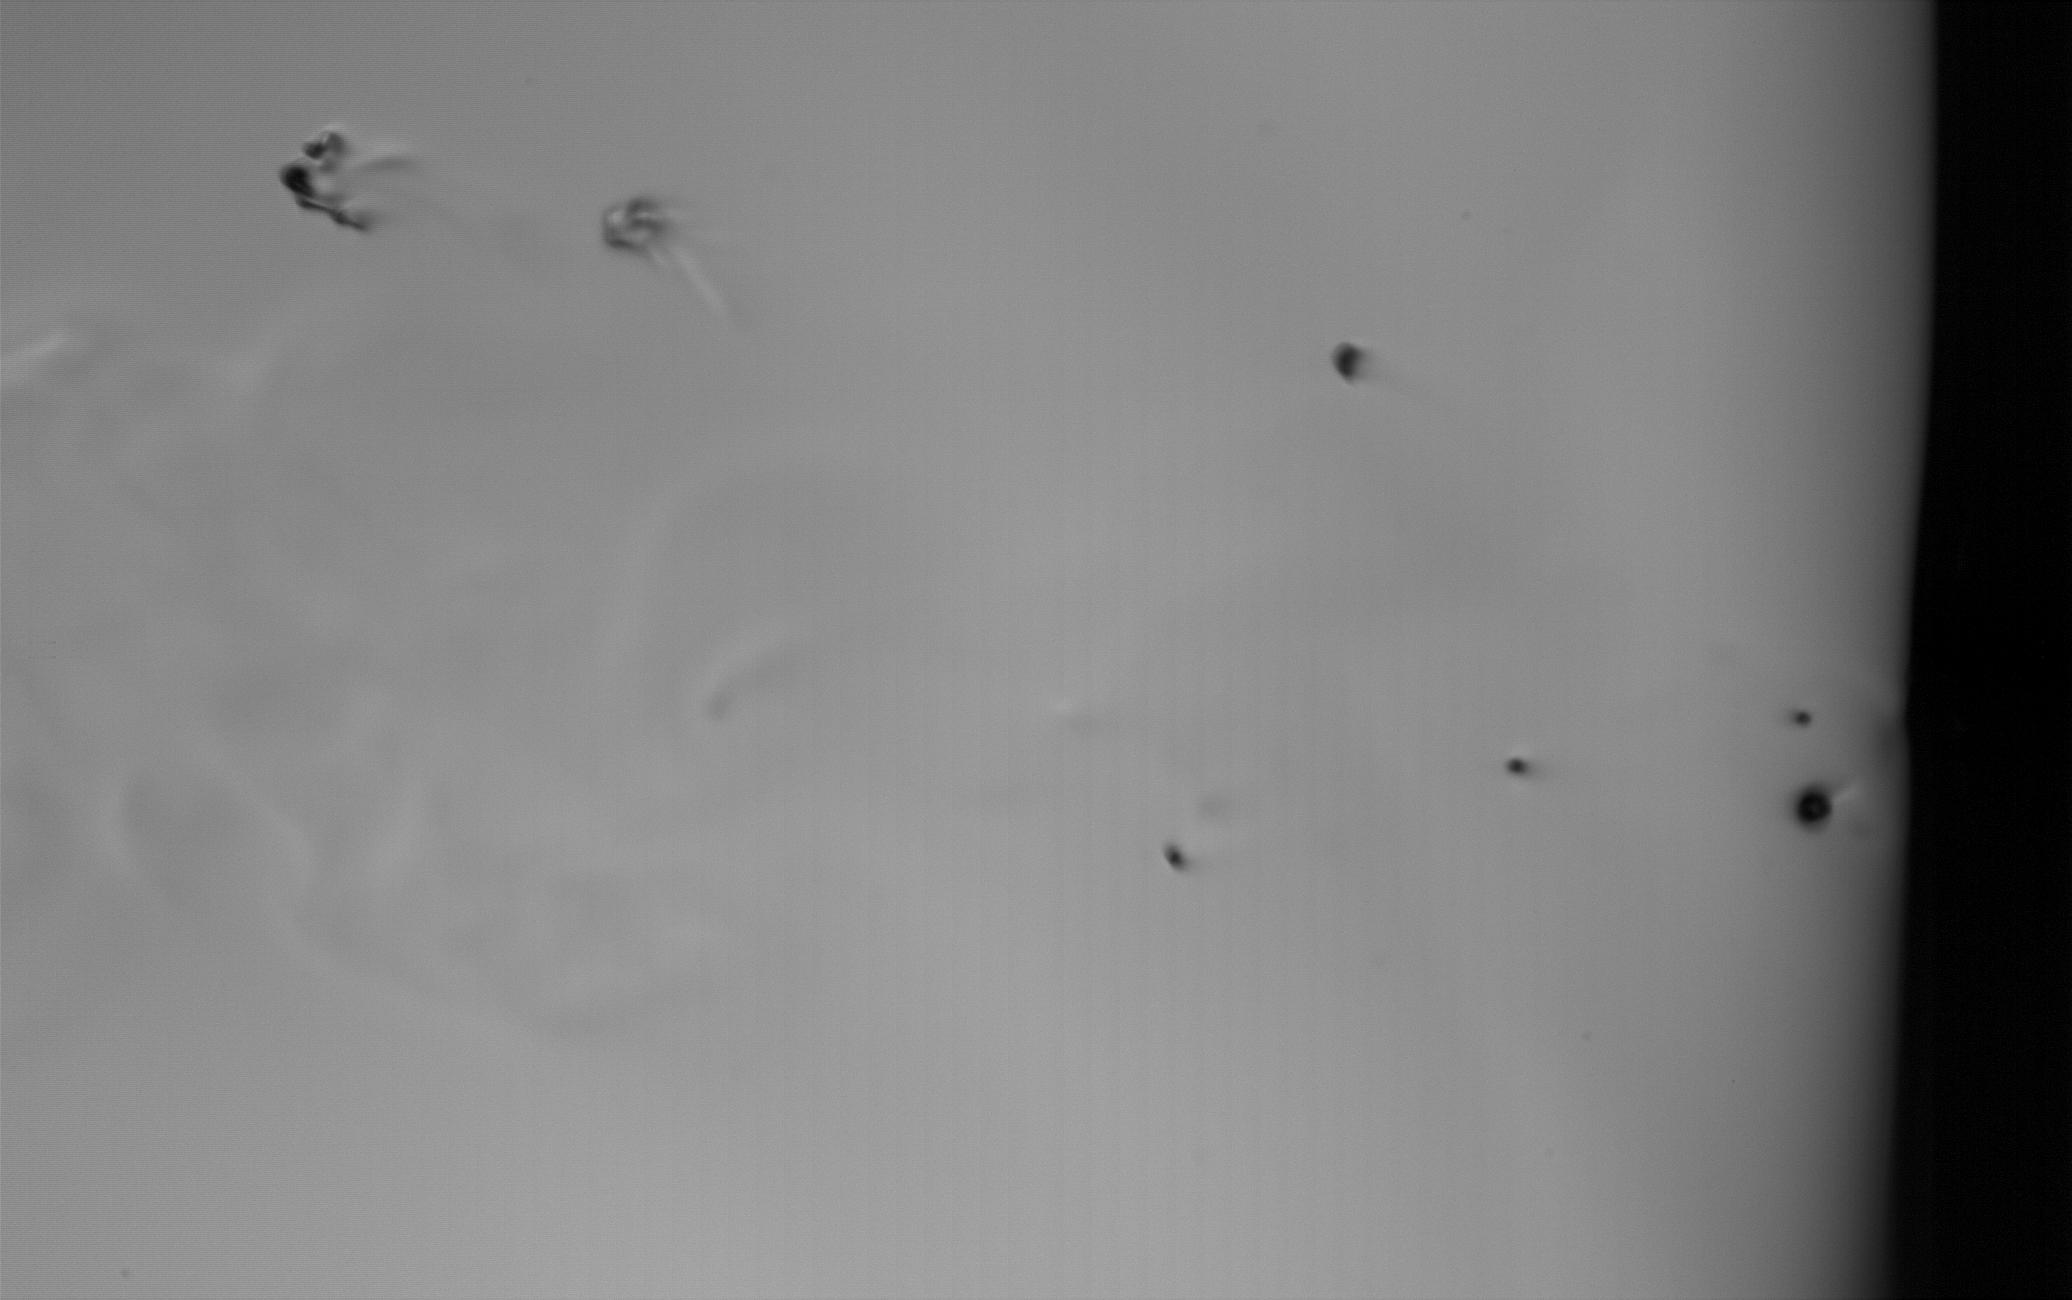Blurry: (273, 121, 374, 237), (591, 196, 667, 253)
ClassicalEvaporation: (1789, 783, 1835, 830), (1502, 754, 1531, 782), (1788, 705, 1814, 732)
TransitionalMixing: (1323, 337, 1371, 389), (1161, 839, 1188, 877)
